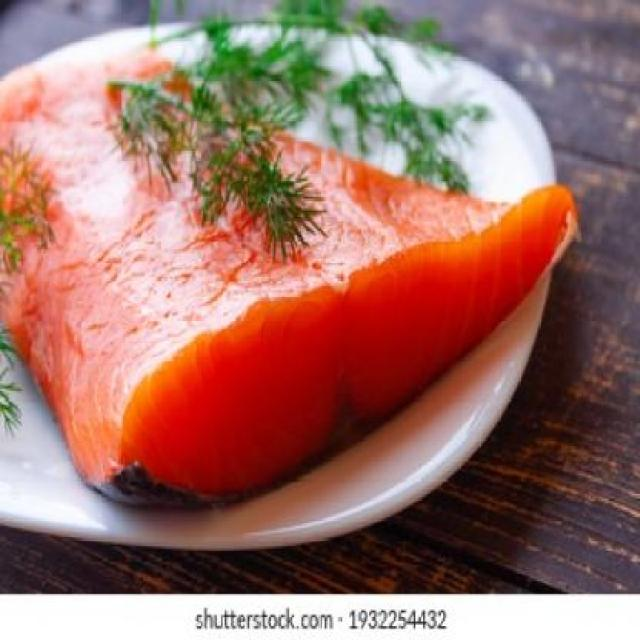salmon: (1, 37, 594, 510)
